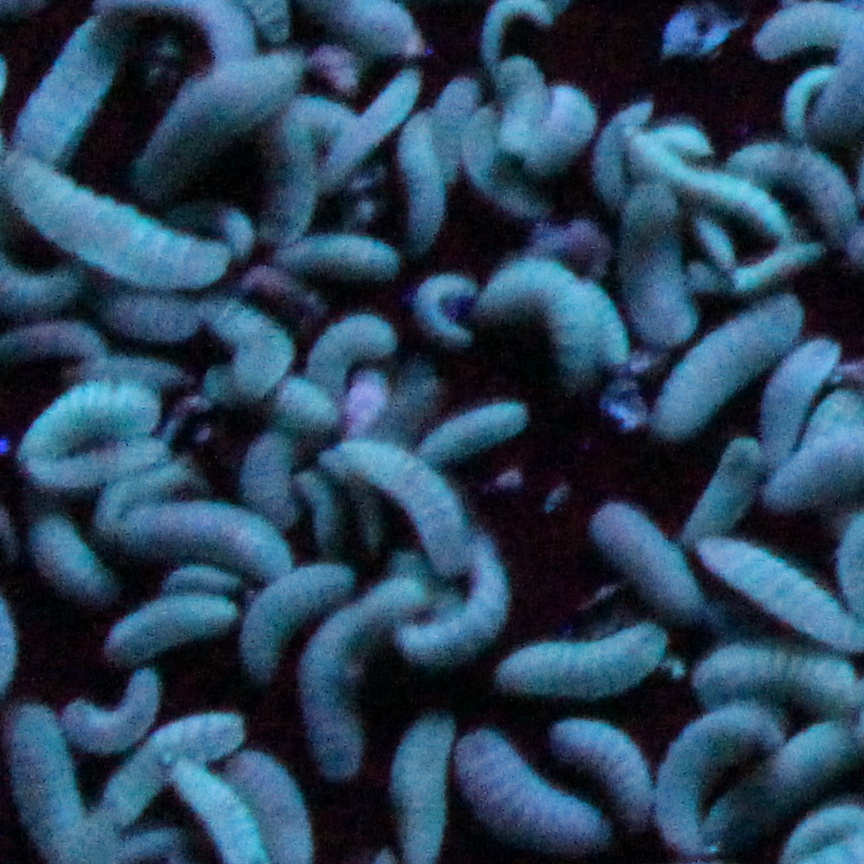larve: (4, 144, 221, 284), (305, 582, 432, 778), (141, 48, 306, 193), (316, 439, 467, 575), (457, 721, 611, 848), (652, 709, 778, 861), (657, 299, 791, 436), (10, 15, 117, 174), (624, 129, 786, 232), (389, 547, 510, 669), (486, 252, 590, 387), (591, 492, 702, 617), (102, 718, 237, 816), (114, 506, 298, 575), (495, 623, 665, 695), (727, 143, 850, 240), (620, 183, 693, 338), (247, 561, 347, 674), (762, 332, 840, 464), (326, 64, 417, 177), (685, 647, 862, 704), (552, 722, 648, 825), (19, 386, 163, 453), (190, 299, 283, 399), (683, 435, 760, 540), (63, 669, 156, 754), (467, 102, 535, 218), (109, 600, 240, 658), (418, 401, 533, 466), (20, 438, 164, 486), (39, 510, 110, 595), (686, 246, 820, 291), (256, 240, 408, 275), (533, 85, 594, 172), (244, 437, 304, 525), (1, 251, 86, 313), (404, 108, 441, 250), (755, 4, 855, 56), (593, 101, 645, 194), (98, 289, 193, 338), (174, 205, 256, 260), (305, 313, 396, 361), (494, 60, 536, 164), (418, 263, 474, 339), (582, 278, 627, 371), (279, 372, 339, 431), (1, 318, 113, 349), (442, 71, 473, 182), (65, 352, 189, 378), (111, 832, 193, 864), (304, 462, 335, 546), (694, 214, 735, 274), (651, 120, 709, 155), (156, 562, 235, 587)
